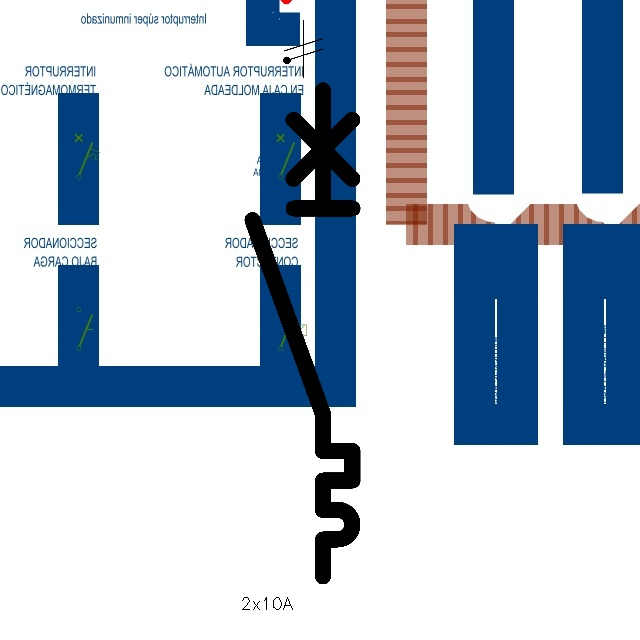interruptor_termomagnetico: (240, 77, 365, 588)
